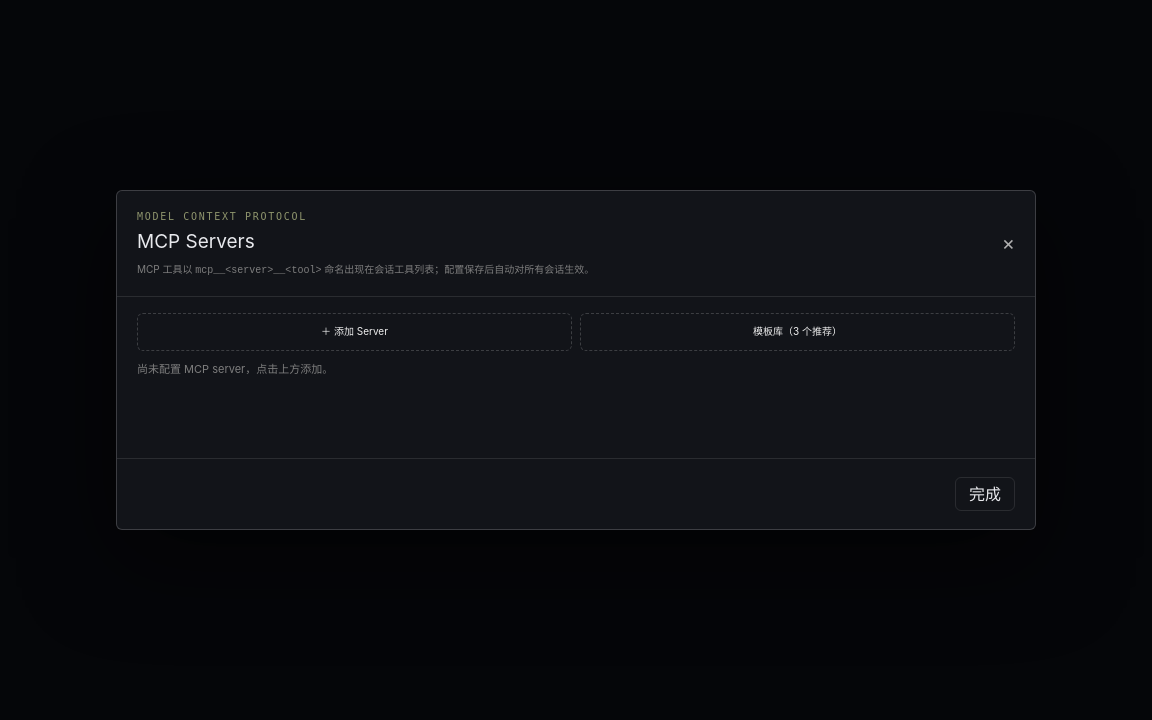
it: McpConfig 模板库（M4.2） › shows what the user must fill in and suggests approval for risky templates
Click the button "模板库（3 个推荐）" at (798, 332), box [580,312,1015,350]
(page scrolled)
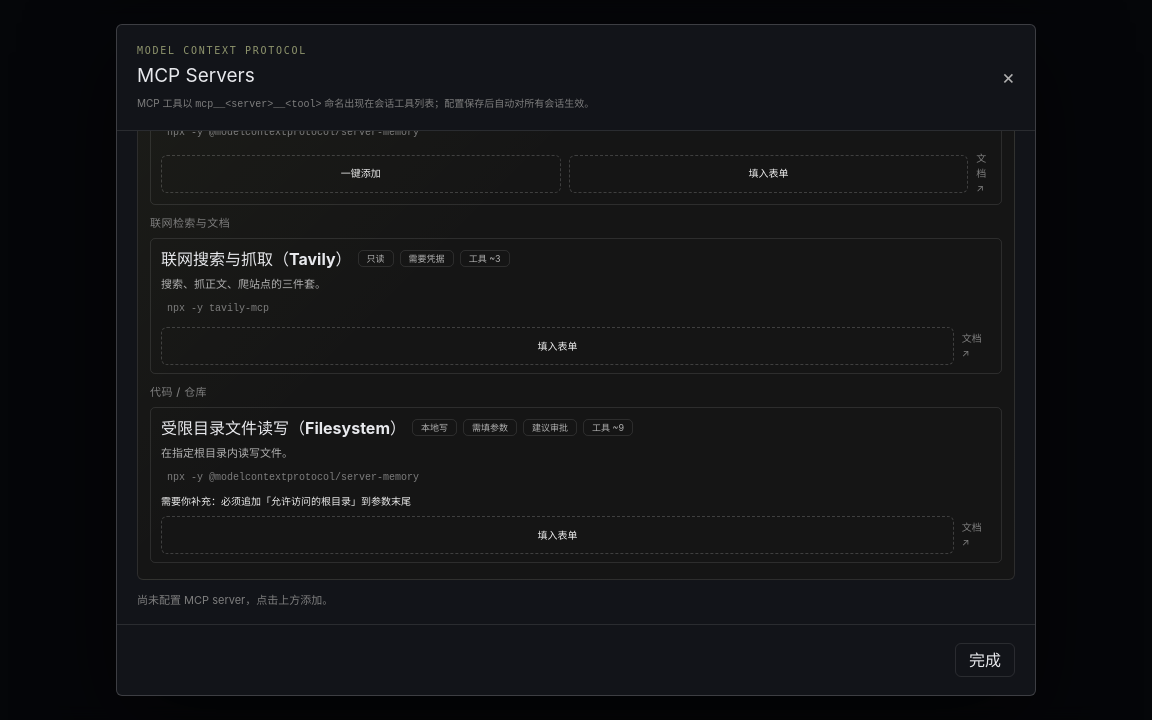
Result: the element with class "mcp-template-card" shows "需填参数" at [472,422,508,433]
Result: the element with class "mcp-template-card" shows "建议审批" at [532,422,568,433]
Result: the element with class "mcp-template-card" shows "需要你补充：必须追加「允许访问的根目录」到参数末尾" at [161,495,411,507]
